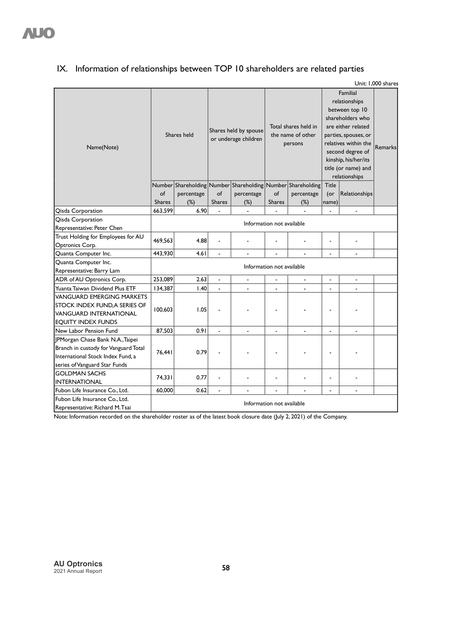box: (53, 86, 401, 422)
